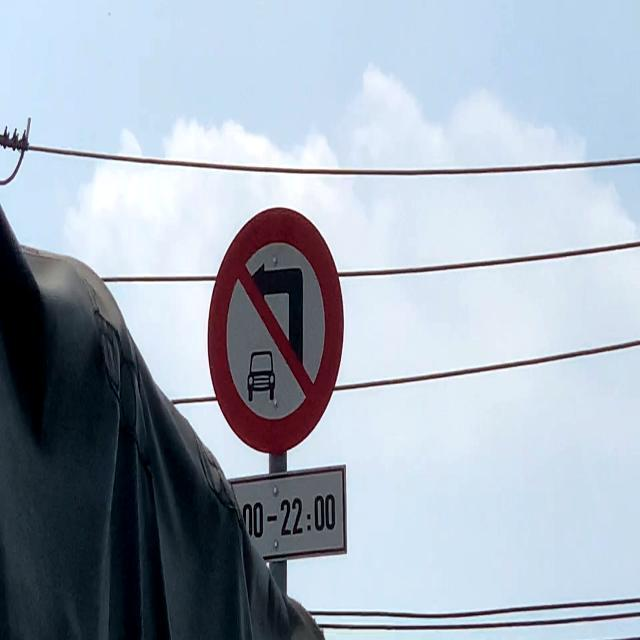123a-cam-re-trai: (206, 206, 346, 454)
